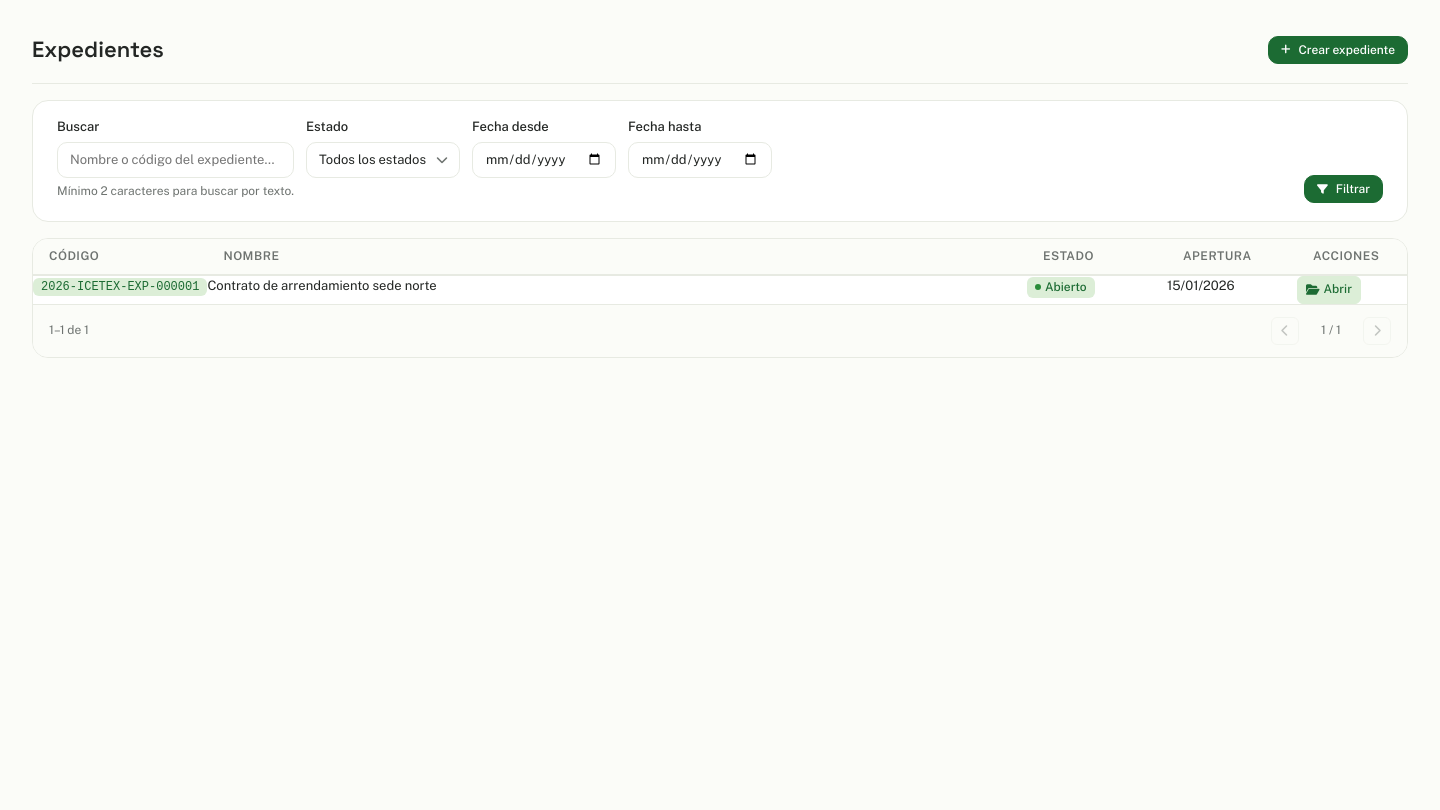
Test: /expedientes — Form Builder (T-12): campos dinámicos de la plantilla de la serie › una plantilla con un campo no soportado (object) muestra el aviso de campos no editables
Click the button named "Crear expediente" in the row of "Expedientes" at x=1338, y=50, box left=1268, top=36, right=1408, bottom=64
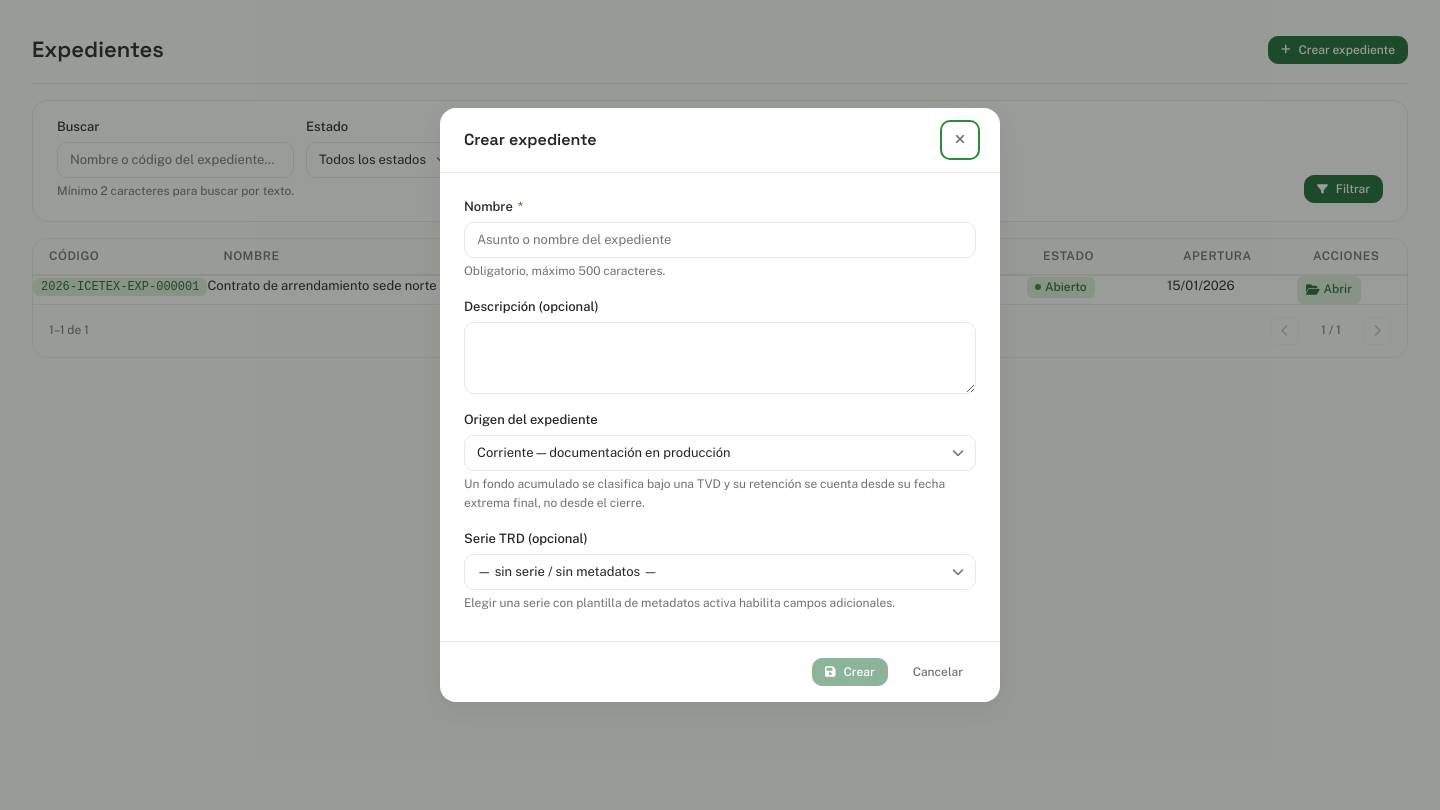
Select "2000 — Procesos disciplinarios" in the dropdown labelled "Serie TRD (opcional)" at x=720, y=572, box left=464, top=554, right=976, bottom=590
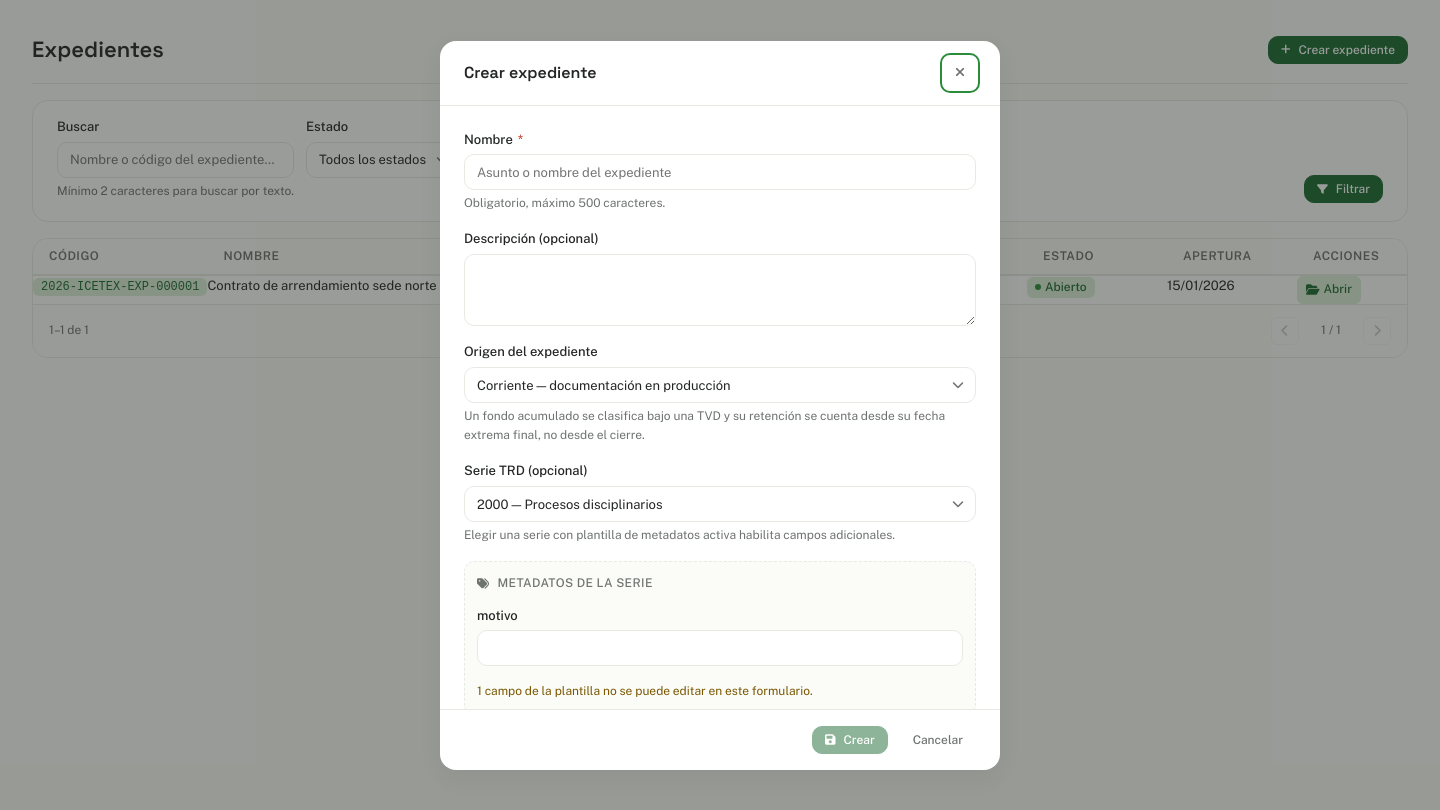
Now the field labelled "motivo" is shown, box left=477, top=630, right=963, bottom=666
Now the text "1 campo de la plantilla no se puede editar en este formulario." is shown, box left=477, top=684, right=813, bottom=698
